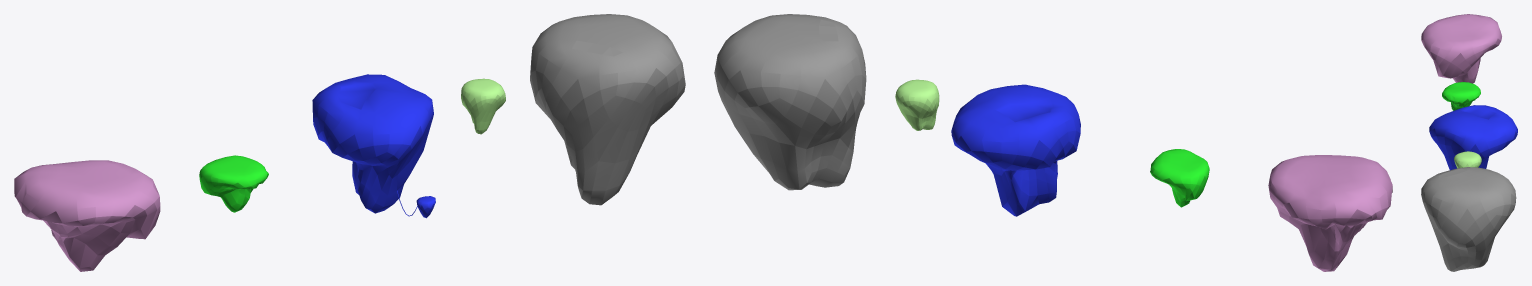
Rendered from islands_LP.fbx.
The picture shows the model from 3 angles, left to right: view 1: azimuth 30°, elevation 25°; view 2: azimuth 150°, elevation 25°; view 3: azimuth 270°, elevation 25°; orthographic projection. The views are drawn at different scales.
Visible parts, largest first — view 1: ilsland_01_LP, ilsland_02_01_LP, ilsland_03_LP, ilsland_04_LP, ilsland_05_LP; view 2: ilsland_01_LP, ilsland_02_01_LP, ilsland_03_LP, ilsland_04_LP, ilsland_05_LP; view 3: ilsland_01_LP, ilsland_03_LP, ilsland_02_01_LP, ilsland_04_LP, ilsland_05_LP.
Boxes of the visible parts, x1,y1,x2,y2 form: ilsland_01_LP: (530, 14, 685, 205); ilsland_02_01_LP: (312, 74, 433, 213); ilsland_03_LP: (14, 160, 160, 271); ilsland_04_LP: (199, 155, 268, 212); ilsland_05_LP: (461, 78, 505, 134); ilsland_01_LP: (714, 14, 866, 190); ilsland_02_01_LP: (951, 84, 1080, 216); ilsland_03_LP: (1268, 155, 1392, 271); ilsland_04_LP: (1150, 149, 1209, 207); ilsland_05_LP: (895, 79, 939, 130); ilsland_01_LP: (1421, 167, 1516, 271); ilsland_03_LP: (1421, 14, 1501, 83); ilsland_02_01_LP: (1429, 105, 1517, 170); ilsland_04_LP: (1442, 82, 1480, 110); ilsland_05_LP: (1454, 151, 1481, 168).
Size of the model in its own units: 9197 by 2100 by 1906.
